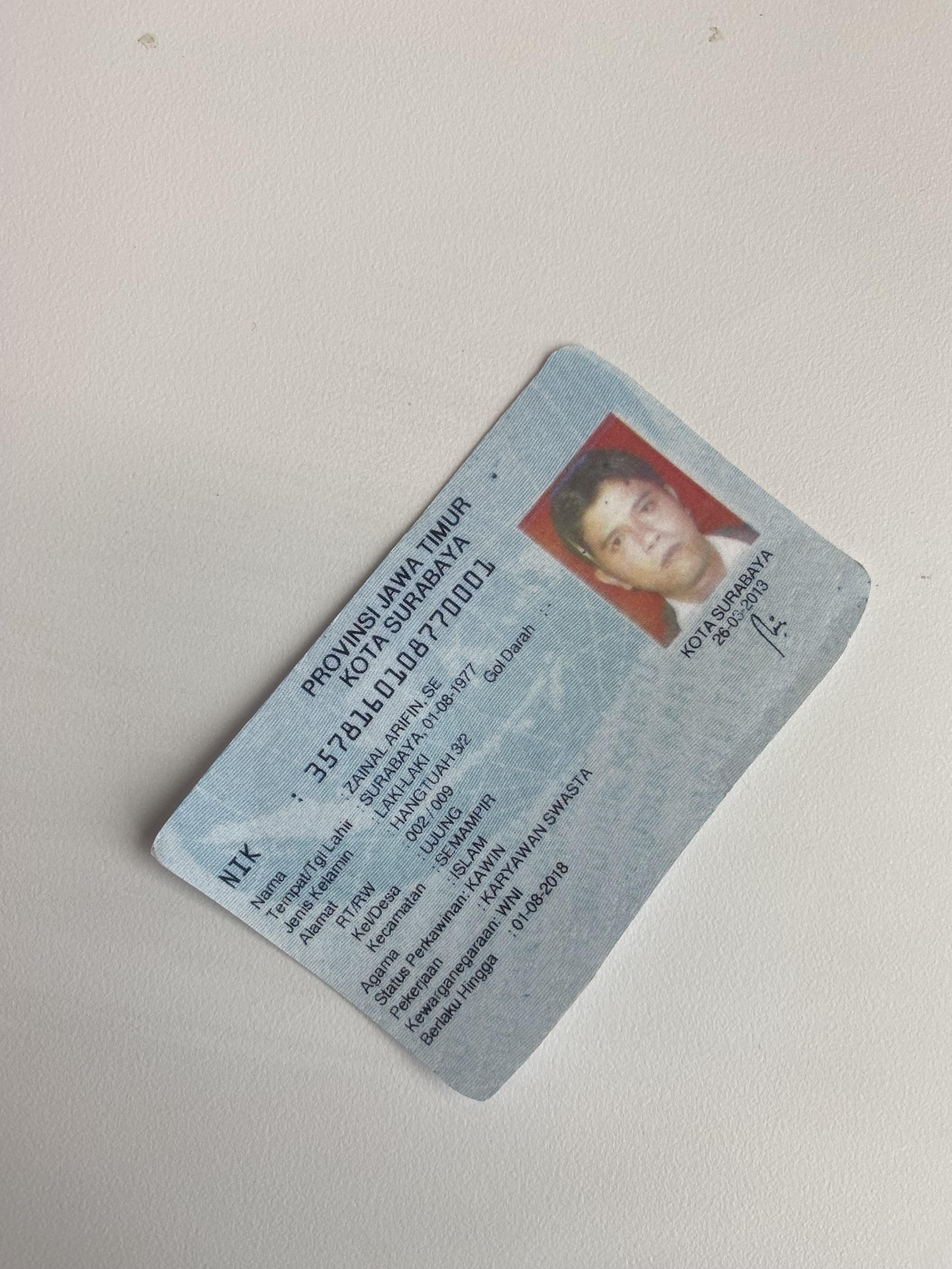ktp: (135, 339, 886, 1109)
